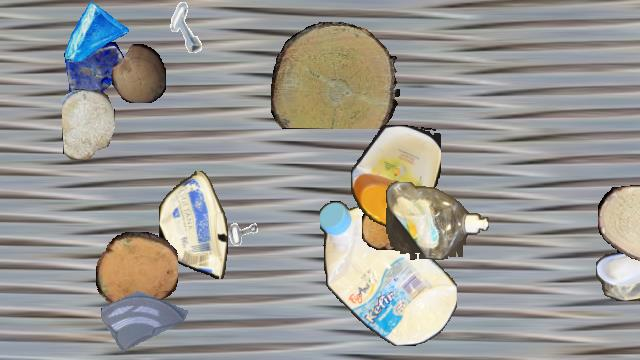glass: (101, 273, 187, 359), (62, 42, 128, 108), (63, 1, 129, 67)
metal: (209, 193, 267, 251), (162, 1, 214, 53)
plastic: (320, 200, 456, 346), (351, 125, 441, 227), (386, 182, 488, 260), (159, 171, 227, 279), (596, 240, 640, 300)
wood: (271, 22, 399, 128), (96, 232, 178, 310), (62, 89, 114, 159), (598, 185, 640, 261), (112, 44, 166, 102), (362, 204, 406, 250)
